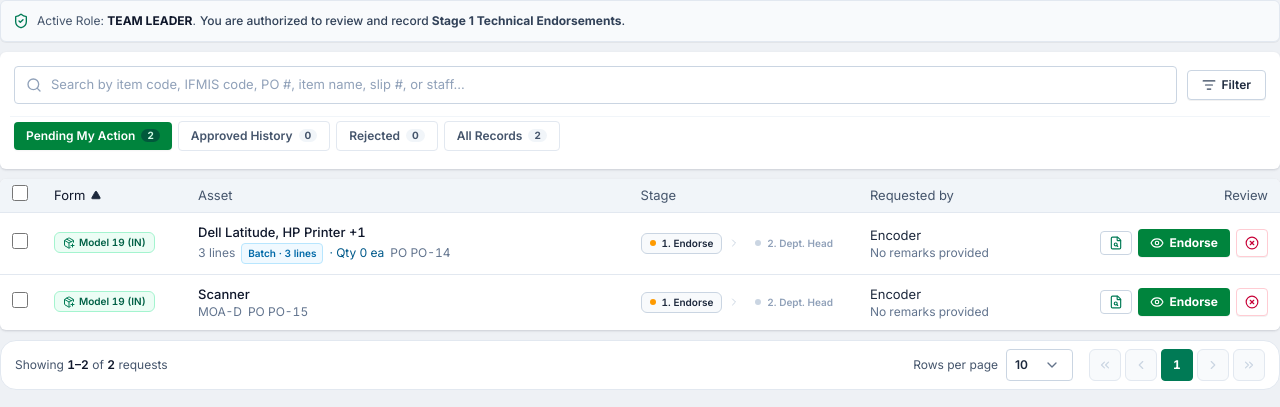
Test: Approvals: one row per Model 19 › finds a receipt by the name of any of its items
The image size is (1280, 407).
Check: the text "3 lines" is shown, box [198,245,235,261]
Type "toner" into the field with placeholder "Search" at (595,85), box [14,66,1176,104]
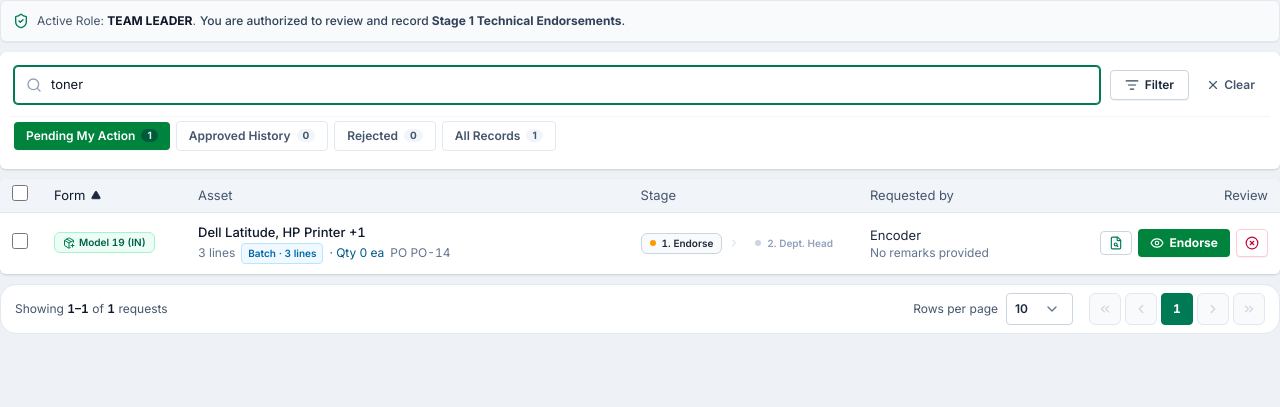
Check: the text "3 lines" is shown, box [198,245,235,261]
Check: the text "MOA-D" is gone
